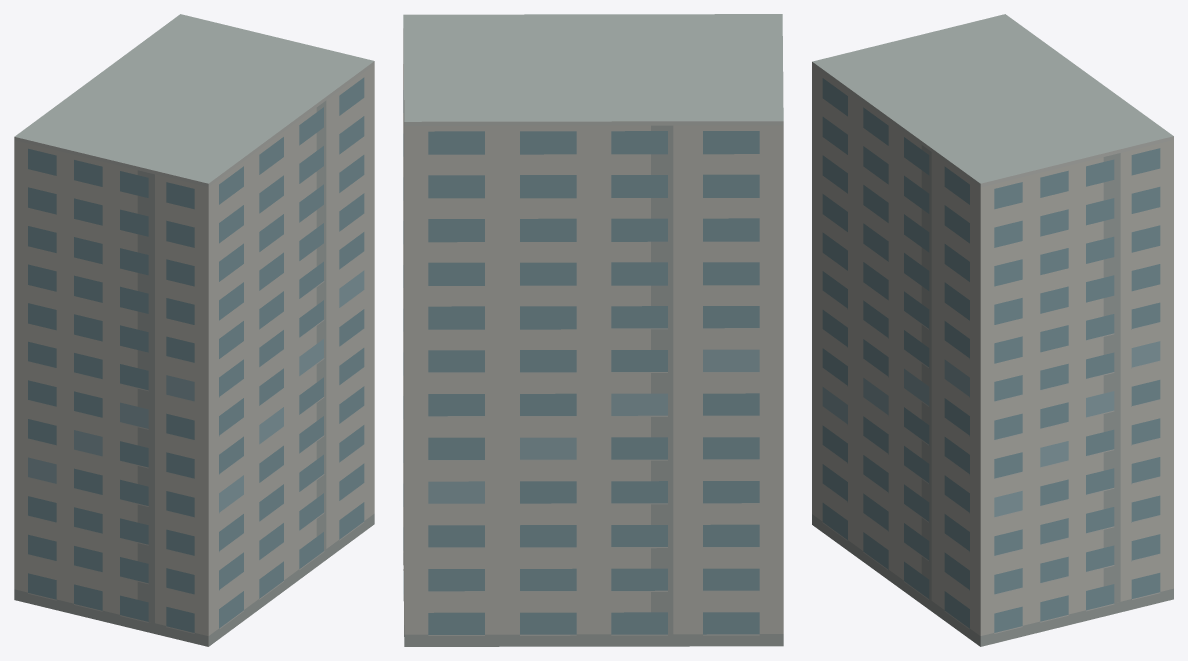
The model's file is residential-67a71131-294d-45b0-9a90-303860f692f7.glb.
3 renders of one model, left to right at view 1: azimuth 30°, elevation 25°; view 2: azimuth 150°, elevation 25°; view 3: azimuth 270°, elevation 25°, orthographic. The views are drawn at different scales.
Parts seen in each view (by area): view 1: residential-67a71131-294d-45b0-9a90-303860f692f7.tmp; view 2: residential-67a71131-294d-45b0-9a90-303860f692f7.tmp; view 3: residential-67a71131-294d-45b0-9a90-303860f692f7.tmp.
Boxes of the visible parts, box(x1,y1,x2,y2) form: residential-67a71131-294d-45b0-9a90-303860f692f7.tmp: box(14, 14, 374, 646); residential-67a71131-294d-45b0-9a90-303860f692f7.tmp: box(403, 14, 783, 646); residential-67a71131-294d-45b0-9a90-303860f692f7.tmp: box(812, 14, 1173, 646).
Bounding box in the file's own units: 24.37 × 31 × 21.95.
